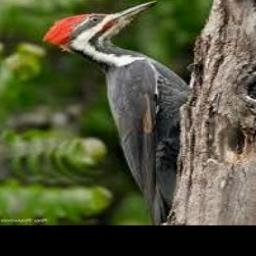Woodpecker: (43, 0, 193, 225)
